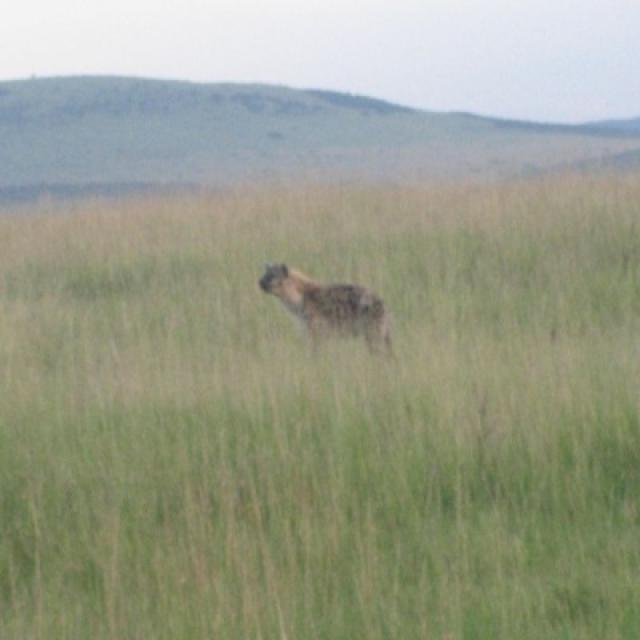hyena: (258, 266, 390, 355)
